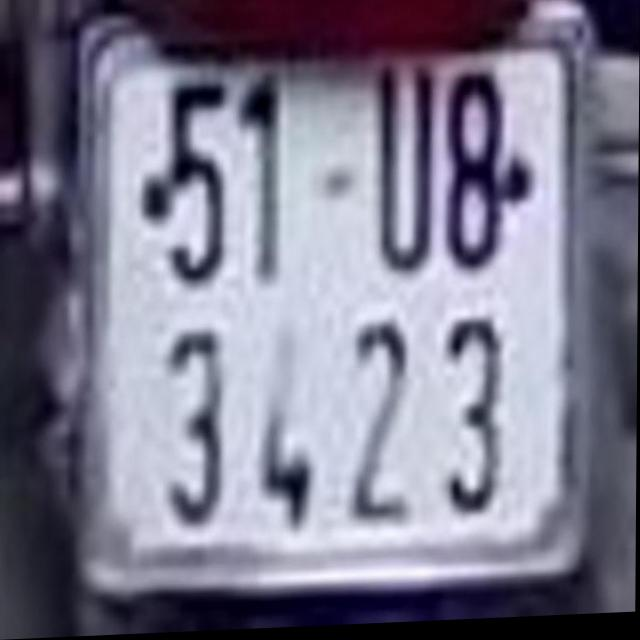1: (231, 80, 289, 296)
2: (354, 325, 411, 524)
3: (162, 332, 233, 528), (445, 323, 502, 513)
4: (264, 333, 313, 532)
5: (168, 85, 227, 285)
8: (448, 81, 497, 268)
U: (376, 70, 432, 272)
